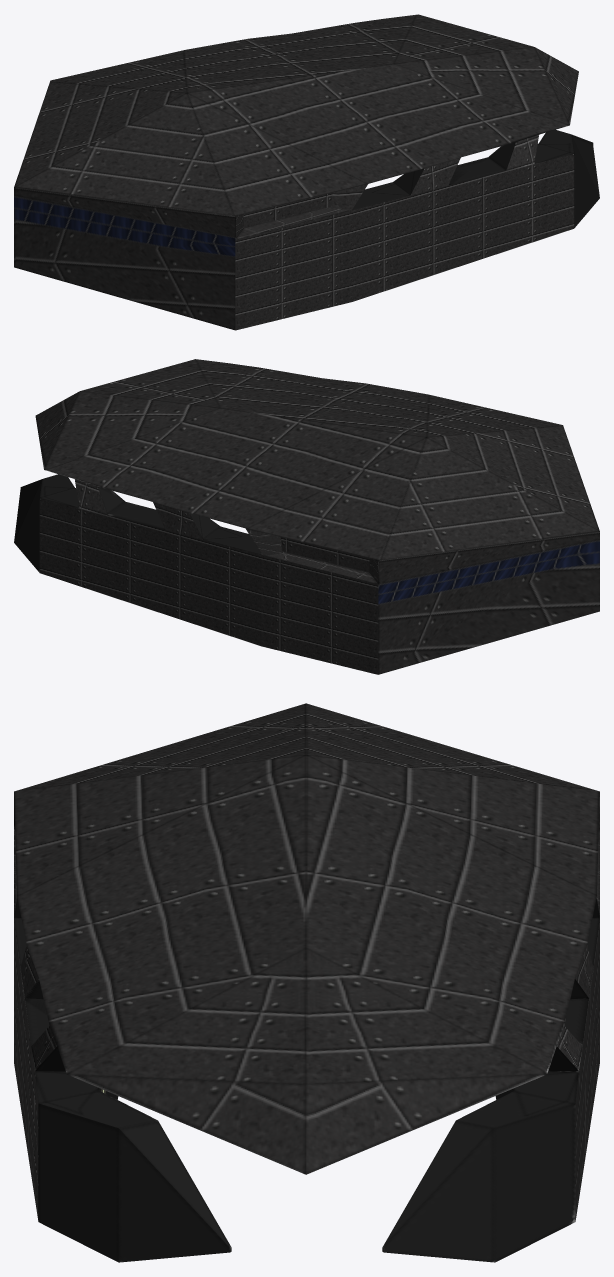
The model's file is Humanship.fbx.
3 renders of one model, top to bottom at view 1: azimuth 30°, elevation 25°; view 2: azimuth 150°, elevation 25°; view 3: azimuth 270°, elevation 25°, orthographic. The views are drawn at different scales.
Parts seen in each view (by area): view 1: Humanship; view 2: Humanship; view 3: Humanship.
Part boxes in pixels (x1,y1,x2,y2): Humanship: (14, 14, 599, 330); Humanship: (14, 359, 599, 674); Humanship: (14, 703, 599, 1262).
Bounding box in the file's own units: 64.55 × 18.85 × 36.62.
